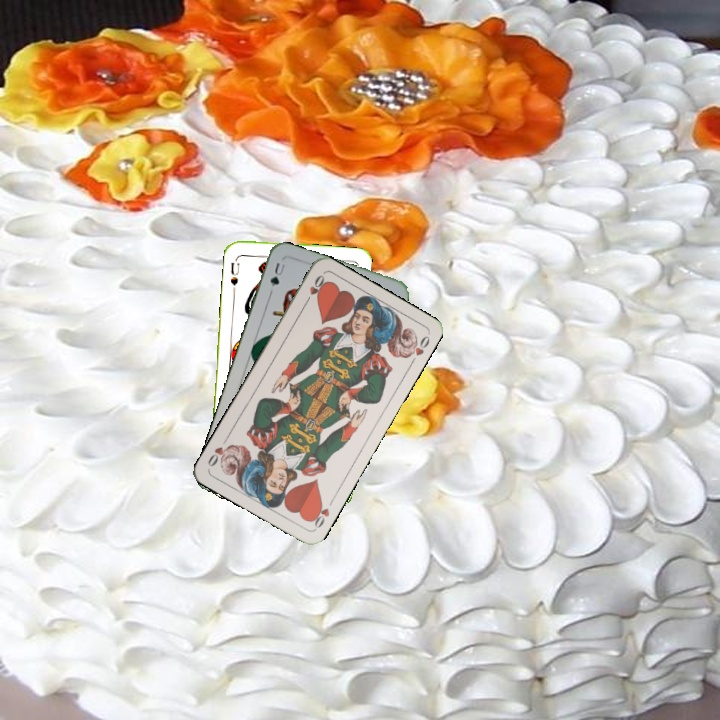GU: (266, 258, 288, 290)
HO: (300, 271, 327, 307), (306, 497, 332, 531)
SU: (227, 253, 242, 288)
